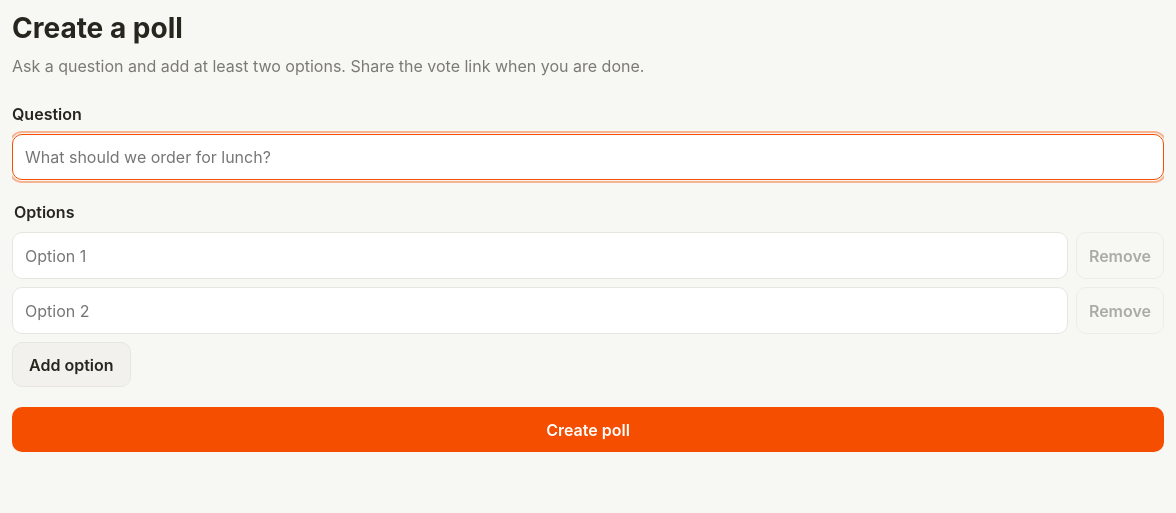
it: CreatePoll › surfaces server error on failed create
The width and height of the screenshot is (1176, 513).
Step 1. Type "Lunch?" into the field with placeholder "What should we order for lunch?" → x=588, y=157, box [12, 134, 1164, 180]
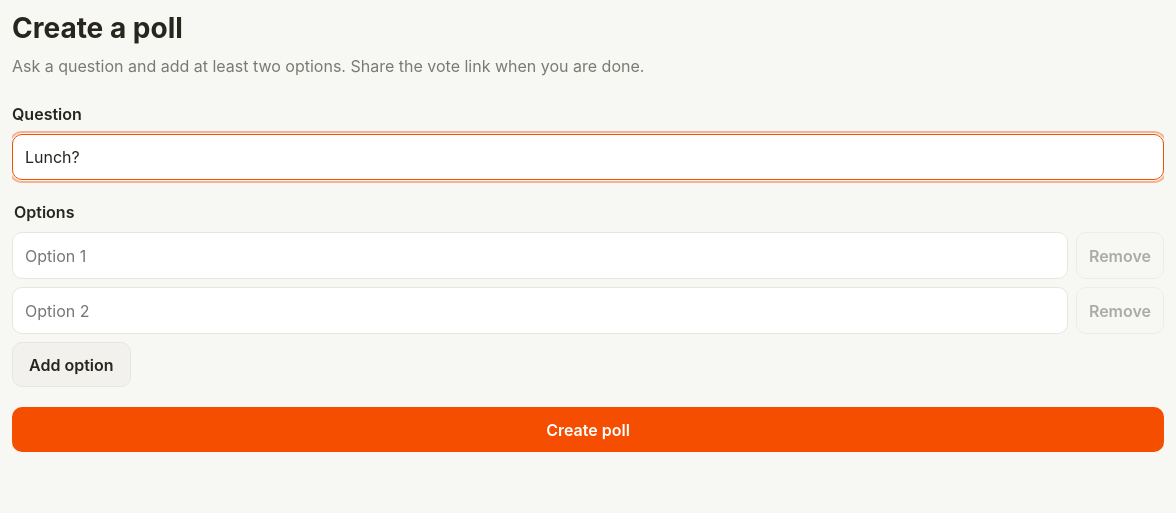
Step 2. Type "Pizza" into the field labelled "Option 1" → x=540, y=256, box [12, 232, 1068, 279]
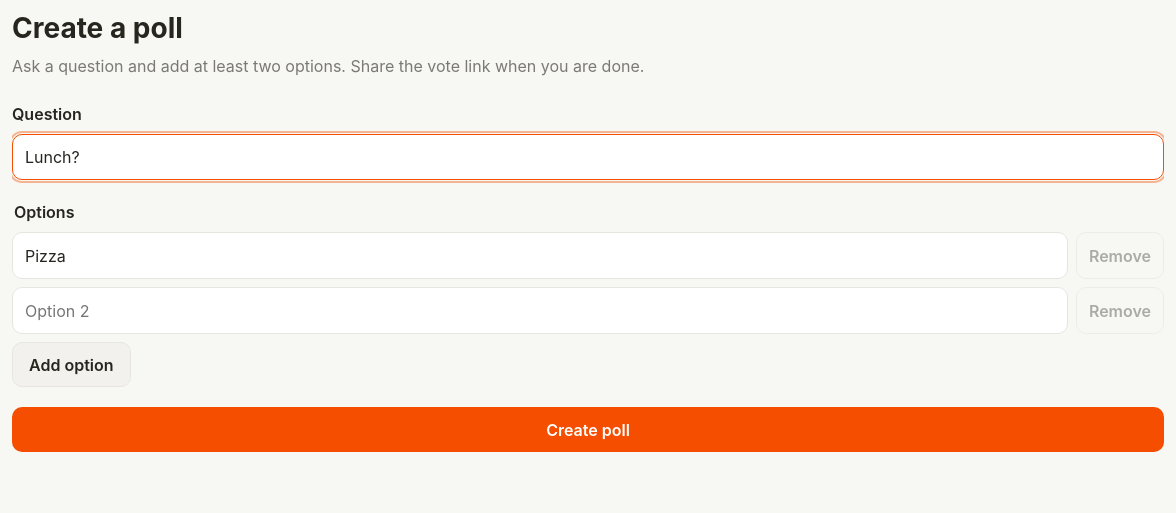
Step 3. Type "Salad" into the field labelled "Option 2" → x=540, y=311, box [12, 287, 1068, 334]
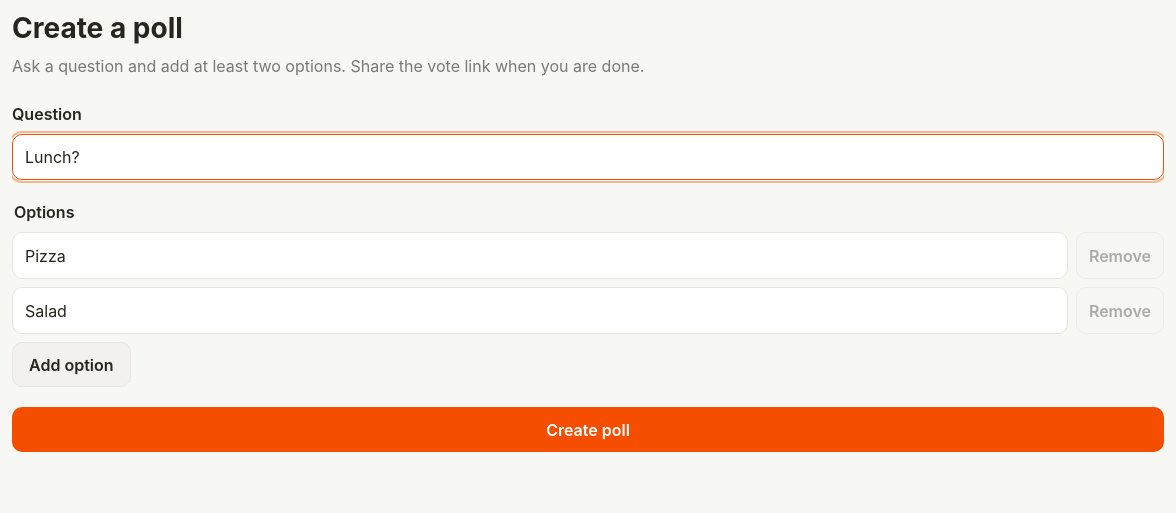
Step 4. Click the button "Create poll" → x=588, y=430, box [12, 407, 1164, 452]
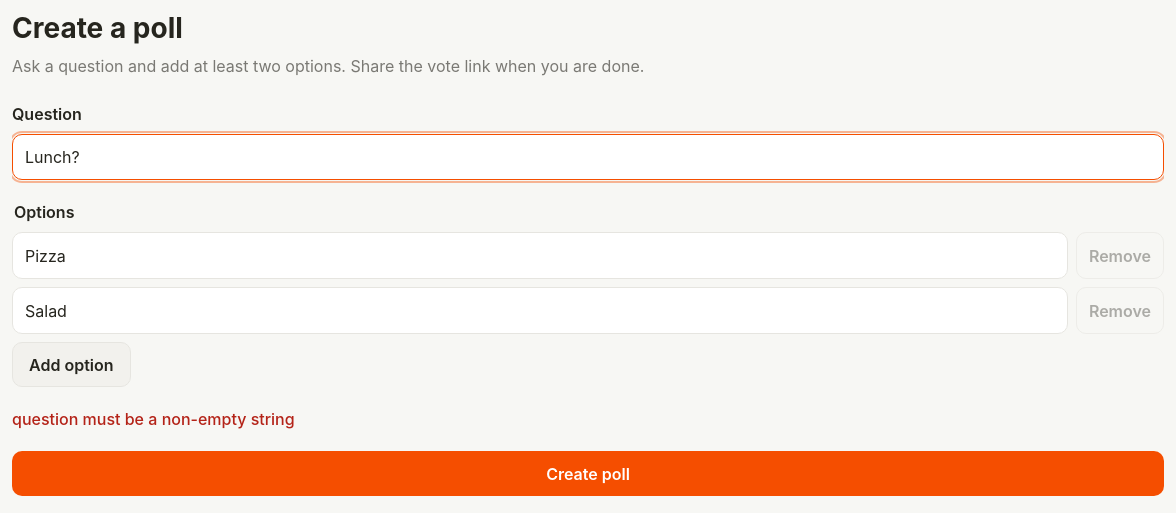
Expected: the message reads "question must be a non-empty string", [12, 409, 295, 429]
